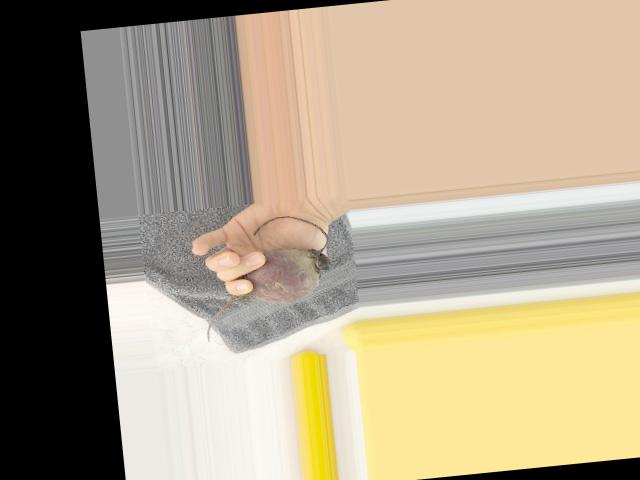beet: (195, 211, 335, 341)
